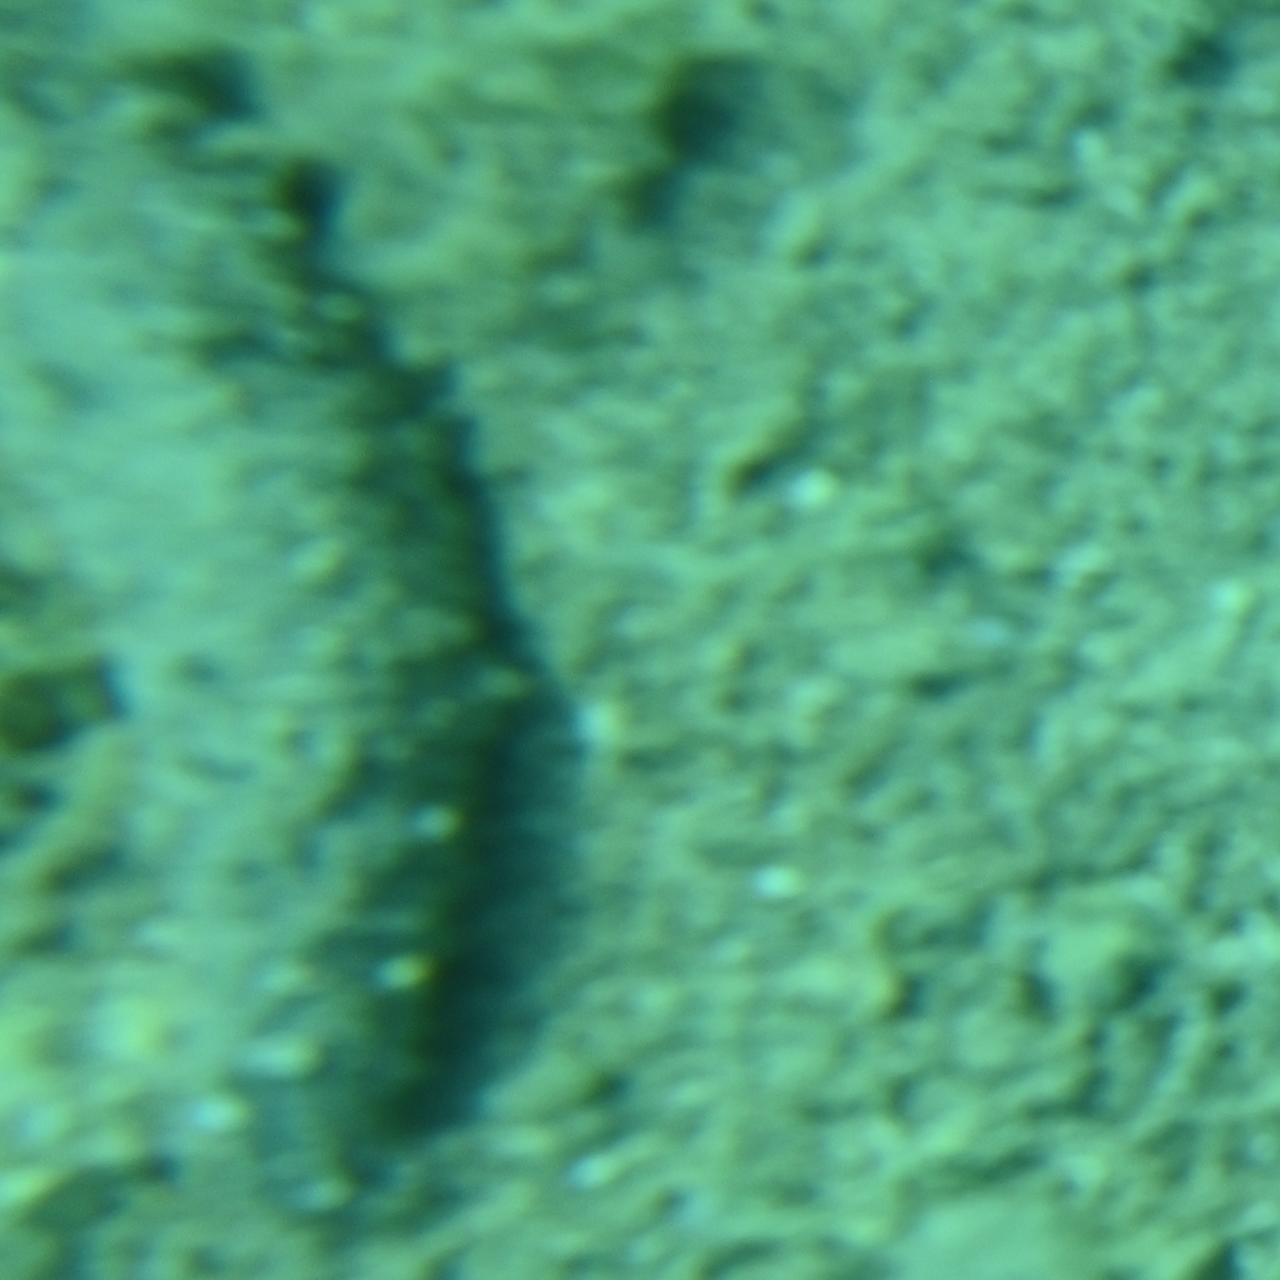Holothuria tubulosa: (0, 22, 576, 1258)
